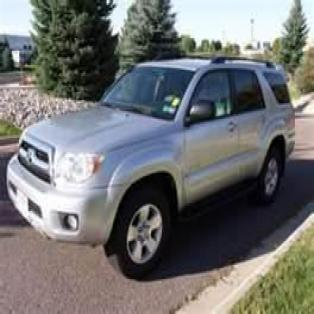Auto: (3, 52, 298, 276)
